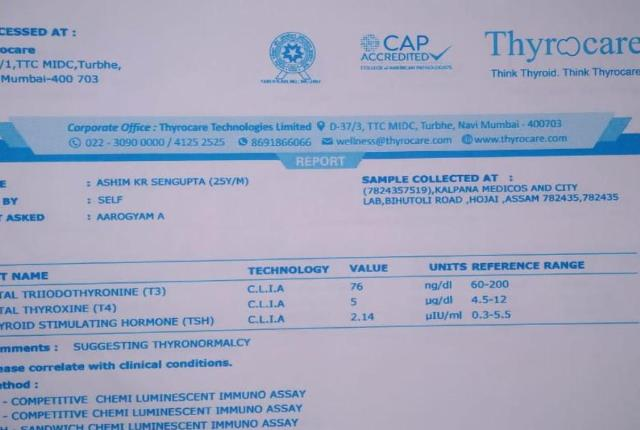Clinical_Conditions: (0, 381, 309, 429)
Name: (95, 174, 251, 190)
Ref_By: (95, 195, 129, 205)
Reference_Range: (470, 274, 516, 323)
Technology: (243, 282, 299, 330)
Test_Asked: (97, 210, 171, 225)
Test_Name: (1, 286, 221, 334)
Unit: (419, 278, 467, 324)
Value: (339, 277, 386, 326)
